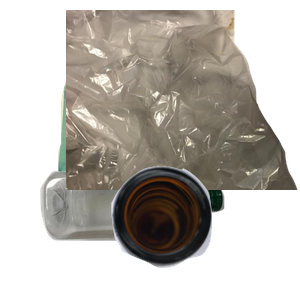glass: (109, 164, 300, 300)
paper: (55, 10, 255, 190)
plastic: (38, 165, 255, 300)
trash: (66, 10, 300, 190)
